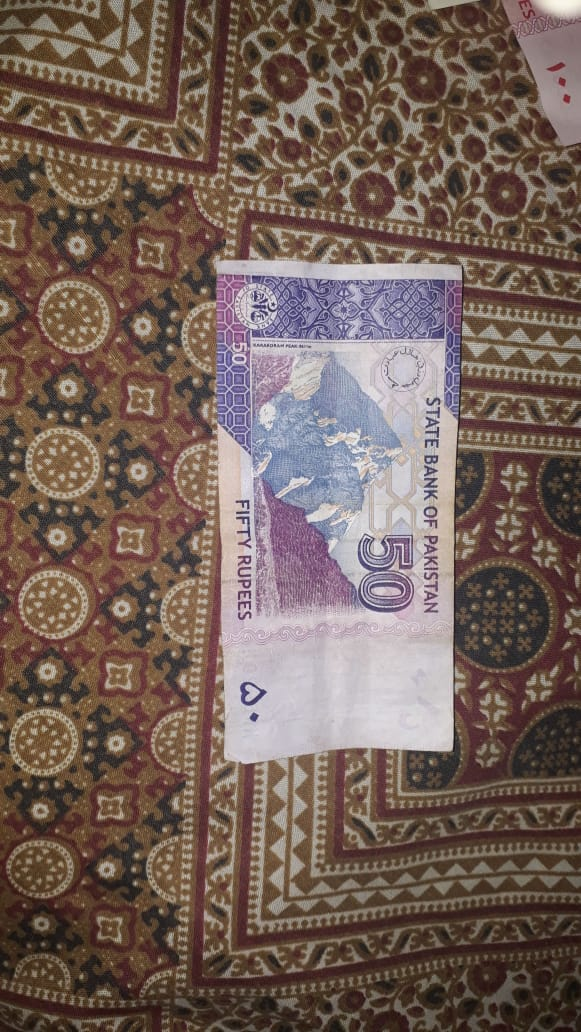50 rupee: (194, 246, 512, 790)
